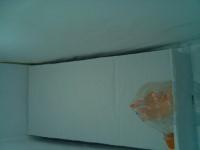bottle: (0, 0, 21, 39)
